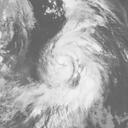cyclone: (37, 26, 105, 100)
